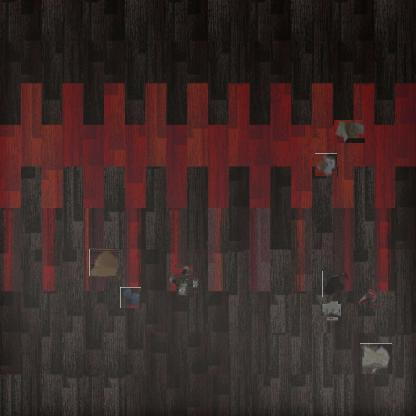dirty: (360, 343, 392, 374), (89, 248, 118, 277), (333, 119, 365, 143), (171, 269, 197, 293), (315, 154, 338, 176), (357, 288, 379, 308), (322, 302, 340, 319)
liquid: (322, 271, 349, 297), (120, 287, 141, 308)
